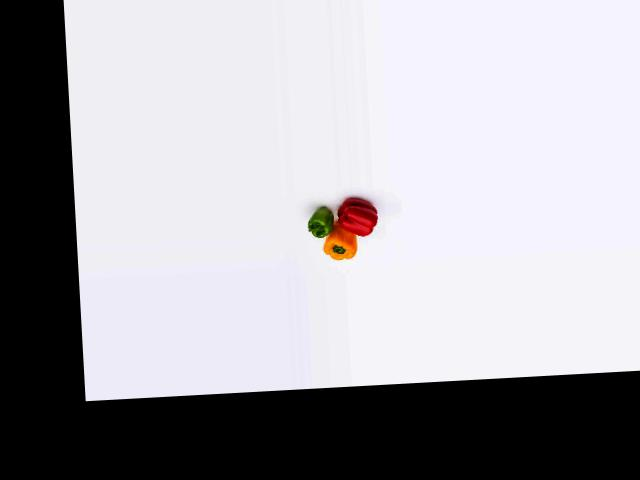bell_pepper: (300, 205, 336, 241)
